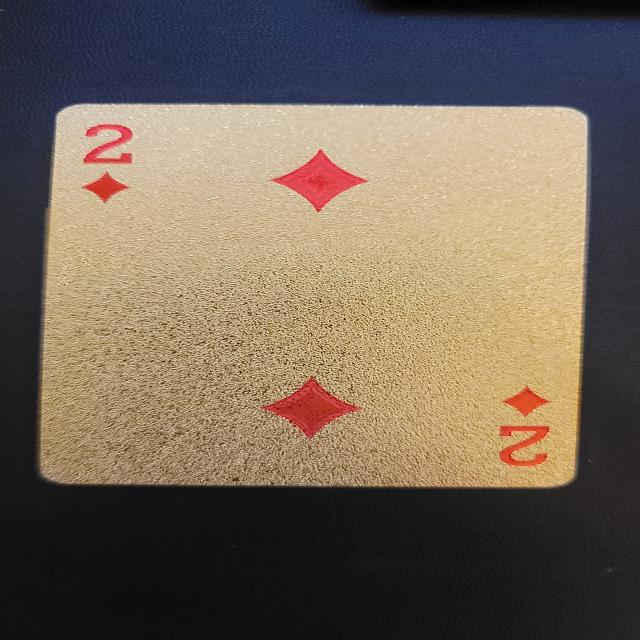2 of diamonds: (34, 103, 588, 491)
